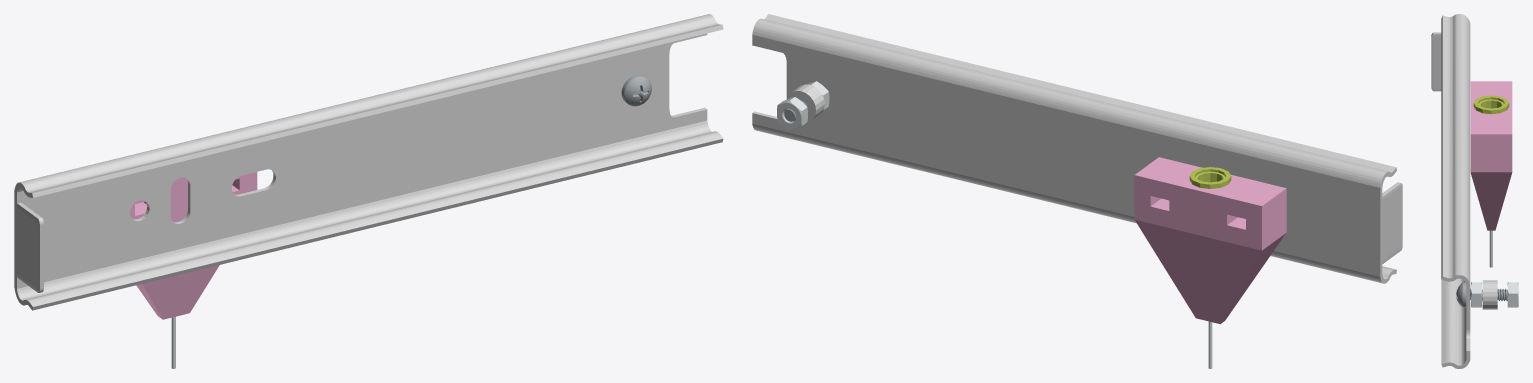
Rendered from tinker.obj.
3 views of the same model, side by side, from view 1: azimuth 30°, elevation 25°; view 2: azimuth 150°, elevation 25°; view 3: azimuth 270°, elevation 25° (orthographic). The views are drawn at different scales.
Parts seen in each view (by area): view 1: group_0_16448250, group_0_15708628, group_0_10988977; view 2: group_0_16448250, group_0_15708628, group_0_14541540, group_0_12373332; view 3: group_0_16448250, group_0_15708628, group_0_14541540, group_0_12373332, group_0_10988977.
Part boxes in pixels (x1,y1,x2,y2): group_0_16448250: (14,14,723,310); group_0_15708628: (130,172,257,319); group_0_10988977: (621,74,651,106); group_0_16448250: (752,14,1402,283); group_0_15708628: (1134,157,1286,324); group_0_14541540: (777,81,1212,368); group_0_12373332: (1189,167,1231,188); group_0_16448250: (1431,14,1497,368); group_0_15708628: (1470,81,1512,230); group_0_14541540: (1471,230,1518,307); group_0_12373332: (1473,95,1509,114); group_0_10988977: (1456,282,1507,307).
Size of the model in its own units: 148 by 49.45 by 20.86.
